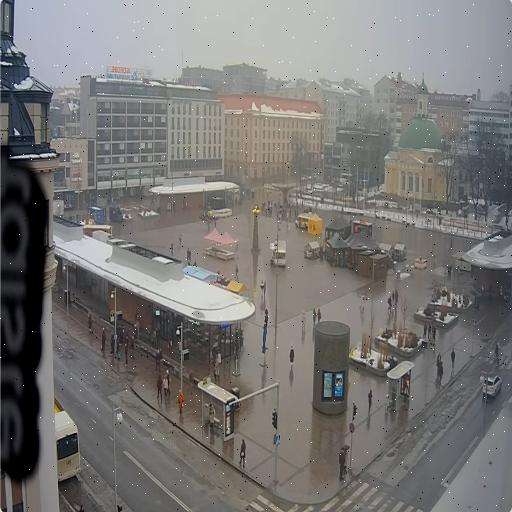Bus: (54, 398, 81, 480)
